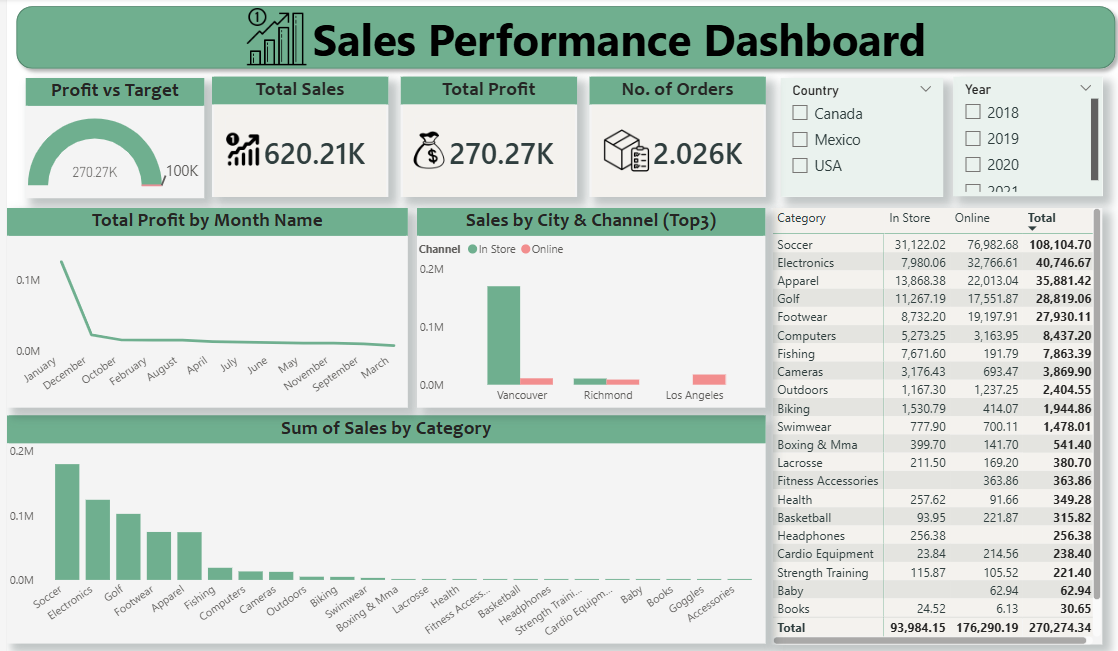

What the dashboard file says about the page in this screenshot:
{"tool":"powerbi","page":{"name":"Page 2","canvas":[1280,720],"ordinal":1},"visuals":[{"type":"columnChart","fields":{"Y":["Sum(Sales Table.Sales)"],"Category":["Product.Category"]},"box":[0,460,823.8,260],"z":0},{"type":"lineChart","fields":{"Category":["Sales Table.Month Name"],"Y":["Sales Table.Total Profit"]},"box":[0,223.7,462.4,236],"z":1000},{"type":"cardVisual","title":"No. of Orders","fields":{"Data":["CountNonNull(Sales Table.Order Id)"]},"box":[0,63.8,198.8,116.2],"z":2000},{"type":"cardVisual","fields":{"Data":["Sales Table.Total Profit"]},"box":[175.6,67.2,193.5,116.6],"z":3000},{"type":"cardVisual","fields":{"Data":["Sales Table.Total Sales"]},"box":[368.8,63.8,186.2,121.2],"z":4000},{"type":"slicer","fields":{"Values":["Sales Table.Country"]},"box":[1140.3,71.4,126.2,112.5],"z":5000},{"type":"slicer","fields":{"Values":["Sales Table.Year"]},"box":[823.3,183.9,428.1,115.3],"z":6000},{"type":"clusteredColumnChart","title":" Sales by City & Channel (Top3)","fields":{"Y":["Sum(Sales Table.Sales)"],"Category":["Sales Table.City"],"Series":["Sales Table.Channel"]},"box":[470.7,223.7,352.7,236],"z":7000},{"type":"gauge","title":"Profit vs Target","fields":{"Y":["Sales Table.Total Profit"],"MaxValue":["Sales Table.Target Profit"],"TargetValue":["Sales Table.Target Profit"]},"box":[823.3,67.2,317,120.8],"z":8000},{"type":"pivotTable","fields":{"Rows":["Product.Category"],"Columns":["Sales Table.Channel"],"Values":["Sum(Sales Table.Profit)"]},"box":[815.1,297.8,451.5,422.6],"z":9000},{"type":"textbox","box":[0,0,1266.6,63.1],"z":10000},{"type":"cardVisual","fields":{"Data":["Sales Table.GPM %"]},"box":[565.4,67.2,203.1,112.5],"z":11000}]}

Visuals, with their boxes on the page's 1280x720 design canvas (x1, y1, x2, y2). These are canvas units, not pixel positions in the 1118x651 screenshot, which may show the page scaled, cropped or inside an application window:
columnChart - Sum(Sales Table.Sales) x Product.Category: {"x1": 0, "y1": 460, "x2": 824, "y2": 720}
lineChart - Sales Table.Month Name x Sales Table.Total Profit: {"x1": 0, "y1": 224, "x2": 462, "y2": 460}
"No. of Orders" cardVisual: {"x1": 0, "y1": 64, "x2": 199, "y2": 180}
cardVisual - Sales Table.Total Profit: {"x1": 176, "y1": 67, "x2": 369, "y2": 184}
cardVisual - Sales Table.Total Sales: {"x1": 369, "y1": 64, "x2": 555, "y2": 185}
slicer - Sales Table.Country: {"x1": 1140, "y1": 71, "x2": 1266, "y2": 184}
slicer - Sales Table.Year: {"x1": 823, "y1": 184, "x2": 1251, "y2": 299}
" Sales by City & Channel (Top3)" clusteredColumnChart: {"x1": 471, "y1": 224, "x2": 823, "y2": 460}
"Profit vs Target" gauge: {"x1": 823, "y1": 67, "x2": 1140, "y2": 188}
pivotTable - Product.Category x Sales Table.Channel: {"x1": 815, "y1": 298, "x2": 1267, "y2": 720}
textbox: {"x1": 0, "y1": 0, "x2": 1267, "y2": 63}
cardVisual - Sales Table.GPM %: {"x1": 565, "y1": 67, "x2": 768, "y2": 180}
